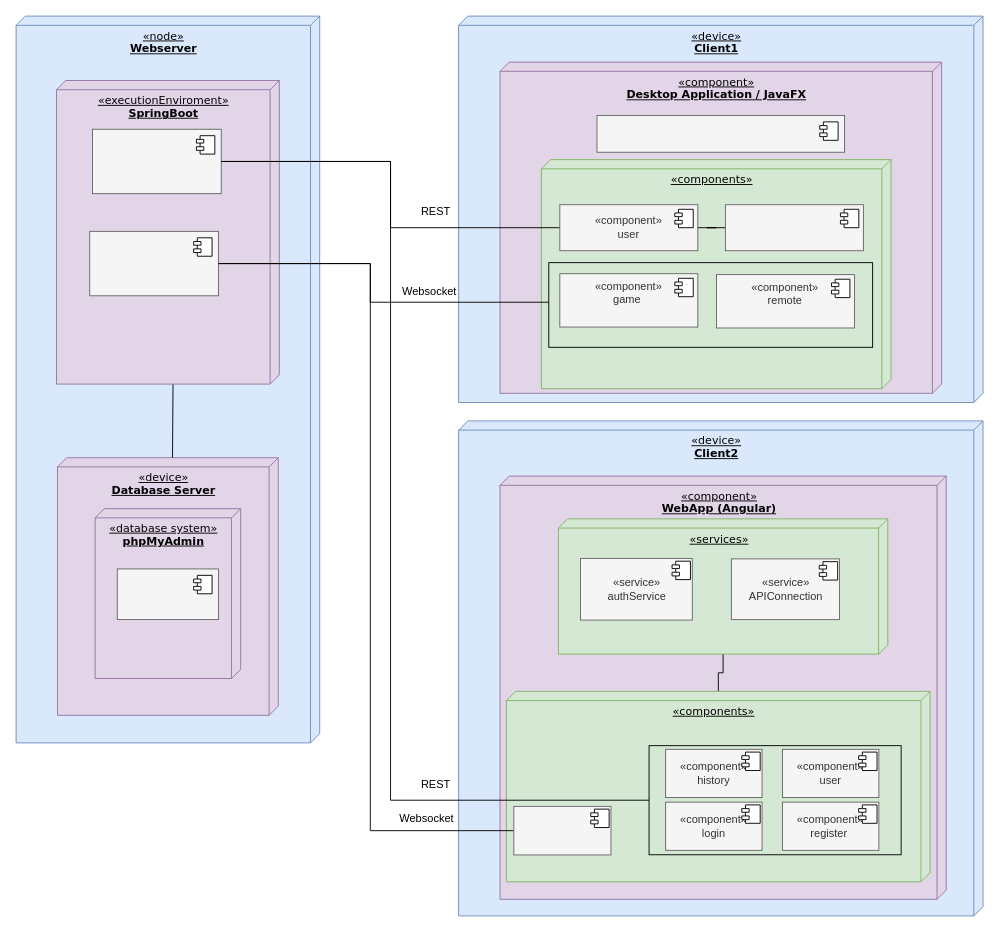
This 999x932 diagram has some shape labels left out. The centre of each missing label's shape, as x and y in pixels:
«artifact» pong.jar: (x=720, y=133)
«artifact» PongDB: (x=167, y=594)
«component» game-state: (x=562, y=830)
«component» gameHistory: (x=793, y=227)
«component» Pong Game: (x=153, y=263)
«component» User Auth. / Game History: (x=156, y=161)
